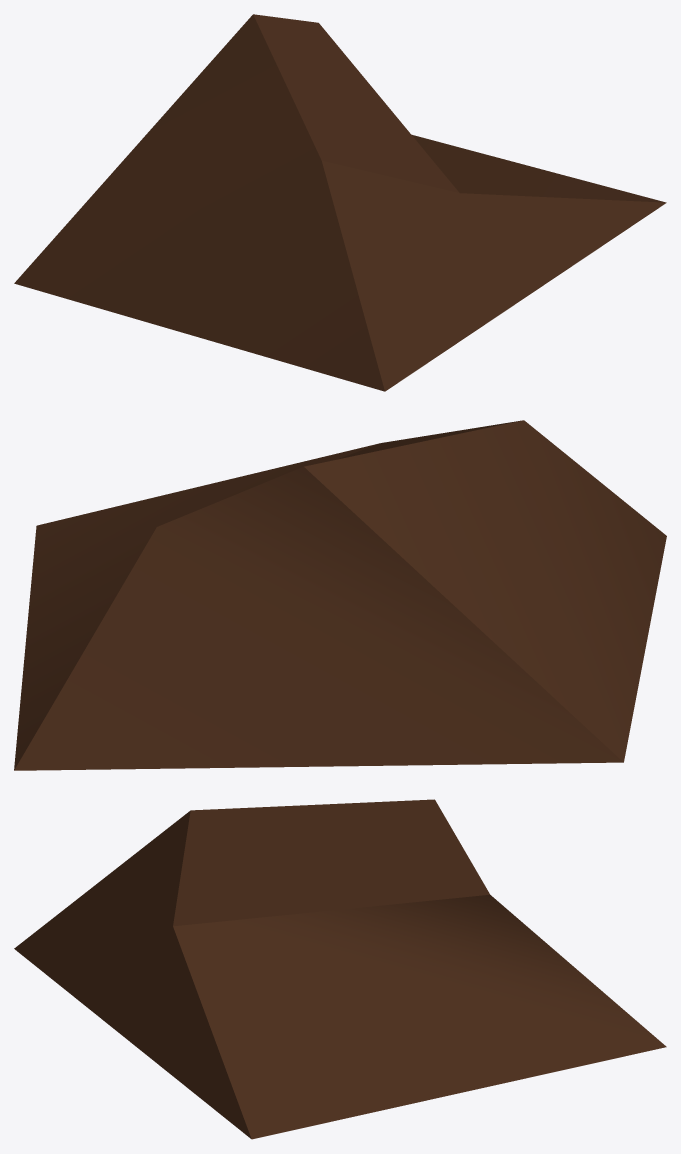
The model's file is ShardBase04.fbx.
The picture shows the model from 3 angles, top to bottom: view 1: azimuth 30°, elevation 25°; view 2: azimuth 150°, elevation 25°; view 3: azimuth 270°, elevation 25°; orthographic projection. The views are drawn at different scales.
Parts seen in each view (by area): view 1: polySurface65; view 2: polySurface65; view 3: polySurface65.
Boxes of the visible parts, bbox=[...] form: polySurface65: bbox=[14, 14, 666, 391]; polySurface65: bbox=[14, 420, 666, 770]; polySurface65: bbox=[14, 799, 666, 1139].
Size of the model in its own units: 11 by 3.61 by 11.26.
